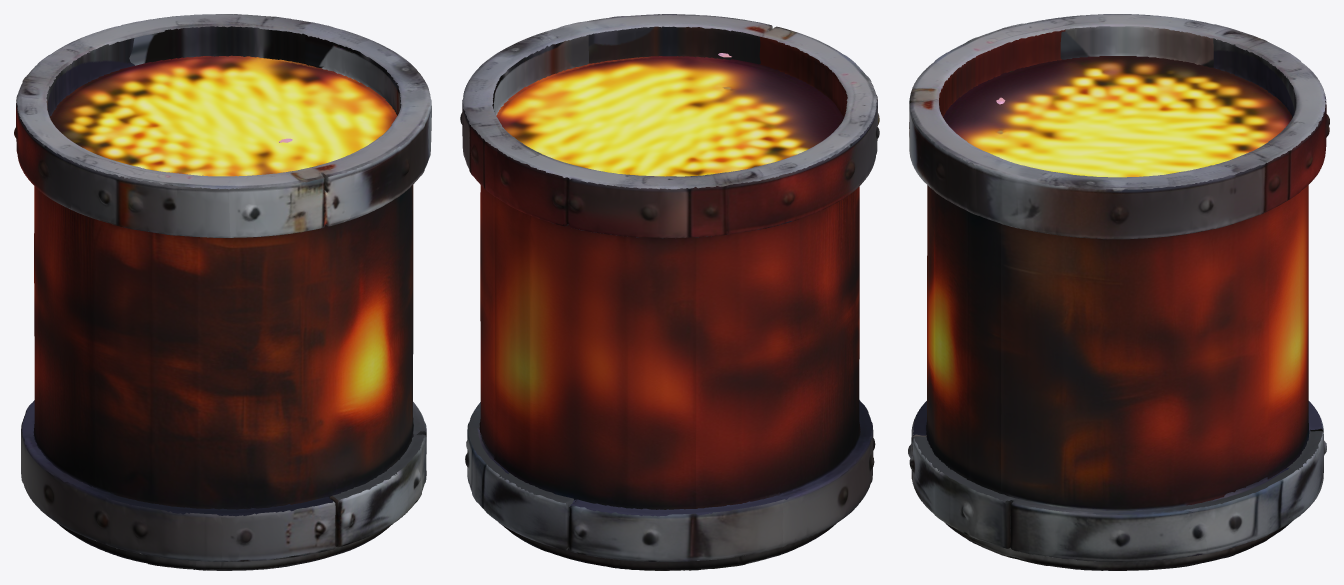
The model's file is barril_fuego.glb.
The picture shows the model from 3 angles, left to right: view 1: azimuth 30°, elevation 25°; view 2: azimuth 150°, elevation 25°; view 3: azimuth 270°, elevation 25°; orthographic projection.
Visible parts, largest first — view 1: tmpx_4ss4h1.ply; view 2: tmpx_4ss4h1.ply; view 3: tmpx_4ss4h1.ply.
Boxes of the visible parts, x1,y1,x2,y2 form: tmpx_4ss4h1.ply: [14, 14, 431, 570]; tmpx_4ss4h1.ply: [460, 14, 879, 570]; tmpx_4ss4h1.ply: [908, 14, 1329, 570].
Bounding box in the file's own units: 0.9655 × 0.9976 × 0.9634.
Materials: 1 (1 with a texture image).
